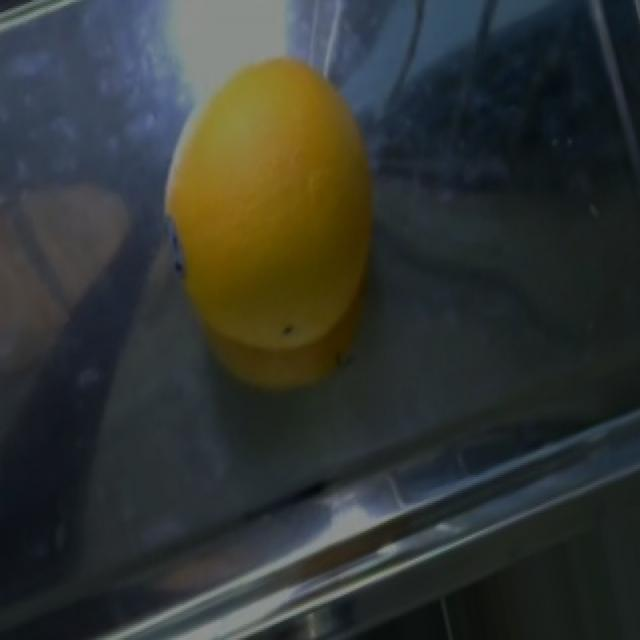Fruit: (147, 16, 400, 415)
